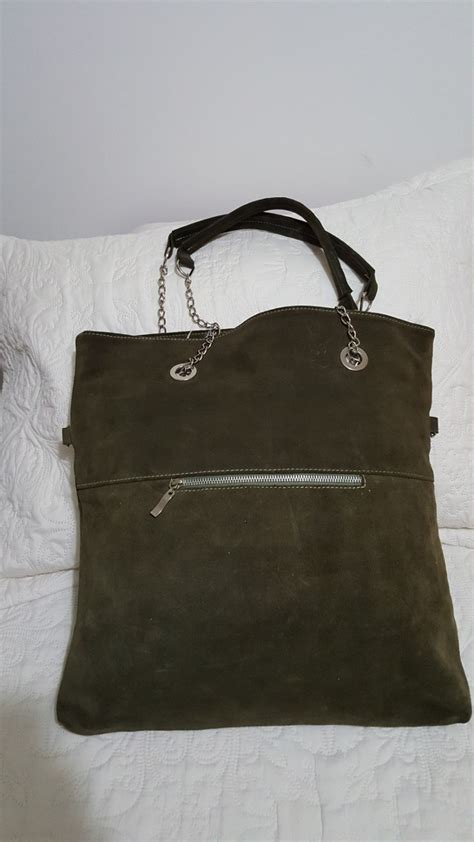gamuza: (53, 307, 474, 738)
